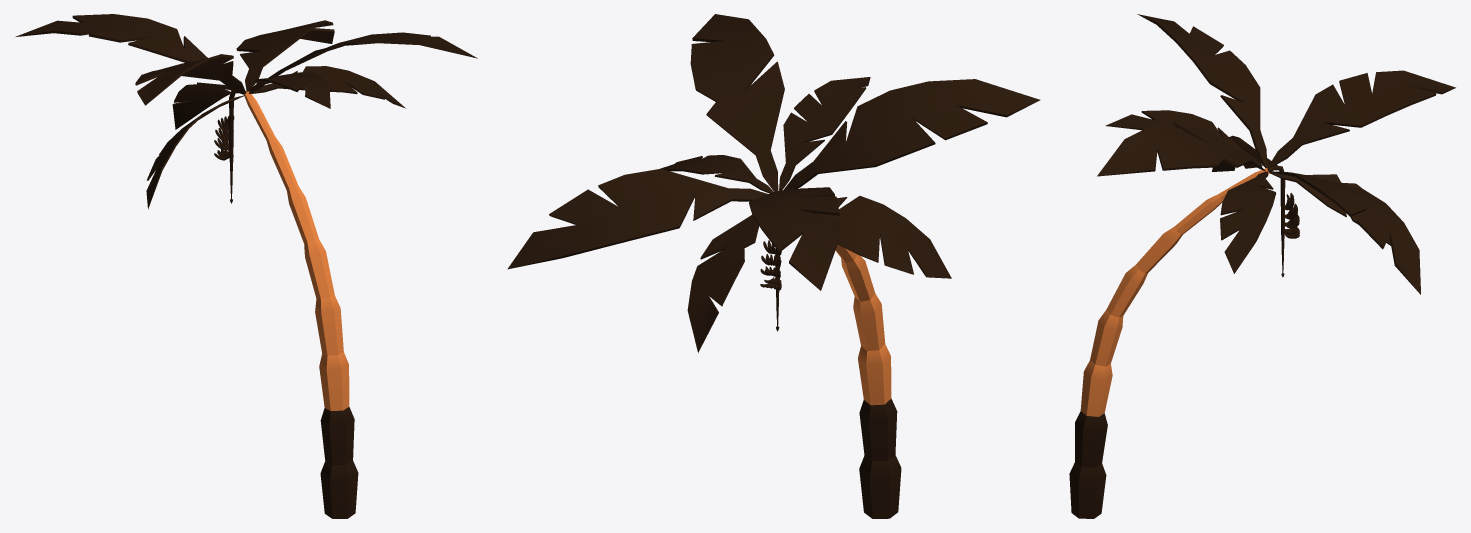
Rendered from LP_Banana_palm_Unwrap.fbx.
The picture shows the model from 3 angles, left to right: view 1: azimuth 30°, elevation 25°; view 2: azimuth 150°, elevation 25°; view 3: azimuth 270°, elevation 25°; orthographic projection. The views are drawn at different scales.
Parts seen in each view (by area): view 1: Leaves, Trunk, Banana_branch; view 2: Leaves, Trunk, Banana_branch; view 3: Leaves, Trunk, Banana_branch.
Part boxes in pixels (left/top/right/bottom): Leaves: left=15, top=14, right=477, bottom=209; Trunk: left=244, top=91, right=358, bottom=518; Banana_branch: left=214, top=89, right=246, bottom=203; Leaves: left=507, top=14, right=1040, bottom=352; Trunk: left=835, top=244, right=901, bottom=518; Banana_branch: left=760, top=240, right=781, bottom=331; Leaves: left=1097, top=14, right=1455, bottom=294; Trunk: left=1069, top=168, right=1269, bottom=518; Banana_branch: left=1267, top=165, right=1299, bottom=277.
Bounding box in the file's own units: 428 × 547 × 443.
